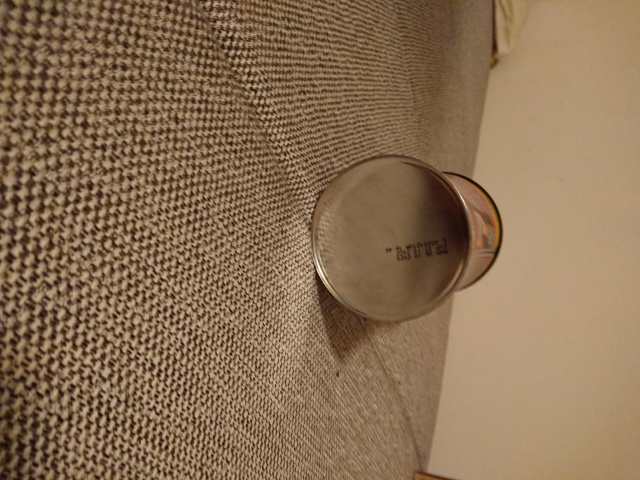Nescafe Classic 225g: (307, 152, 505, 327)
